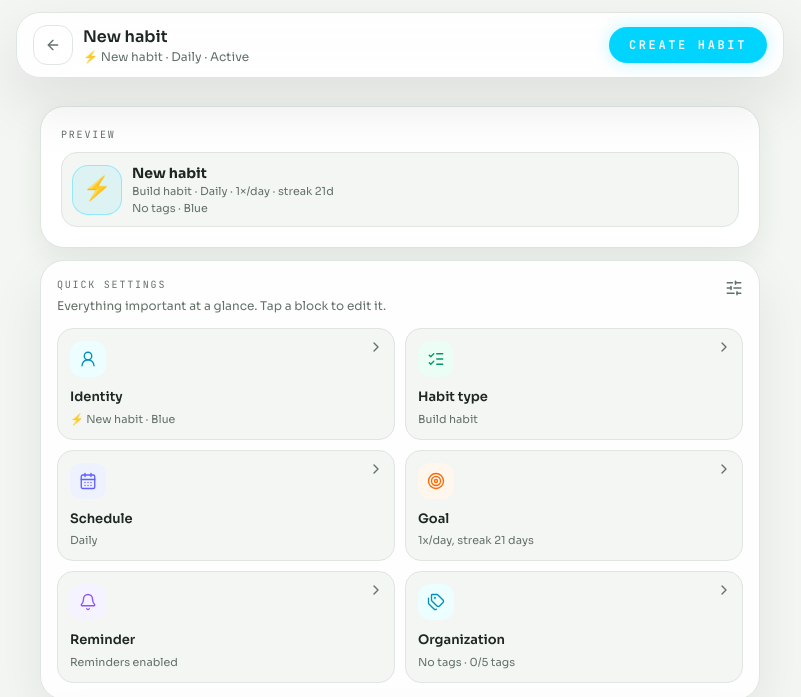
Test case: HabitForm › shows the reference-specific focused-panel context
What coordinates should you click on to do the following:
click the button with aria-label "Edit Identity"
I would click on:
 (88, 359)
Its box is [57, 328, 395, 440].
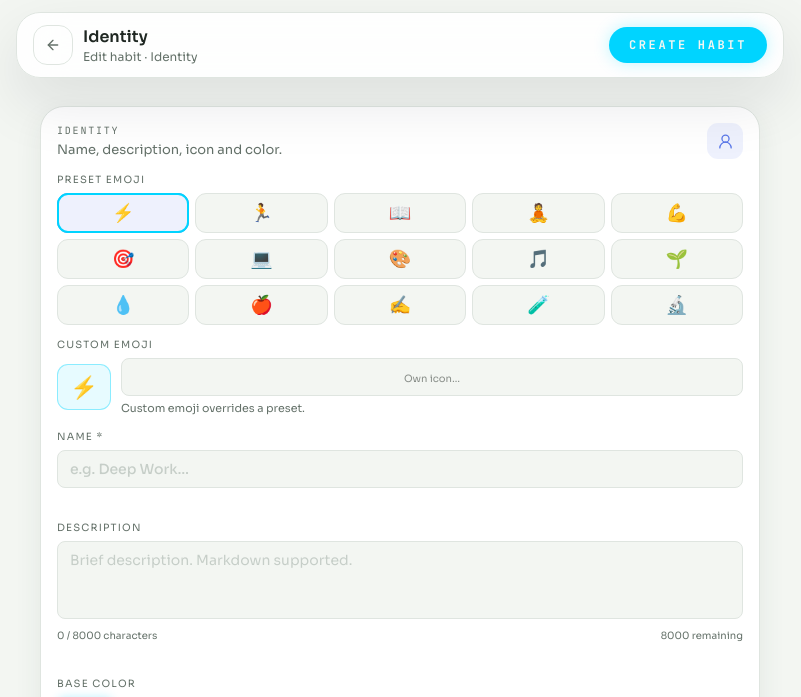
Now the 1st heading "Identity" is shown, box [83, 26, 148, 47]
Now the text "Edit habit · Identity" is shown, box [83, 49, 198, 65]
